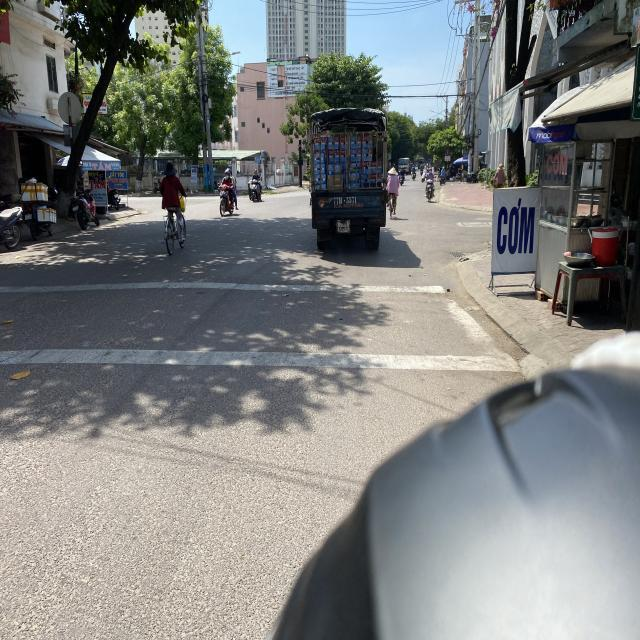walk-crossing: (0, 280, 520, 372)
